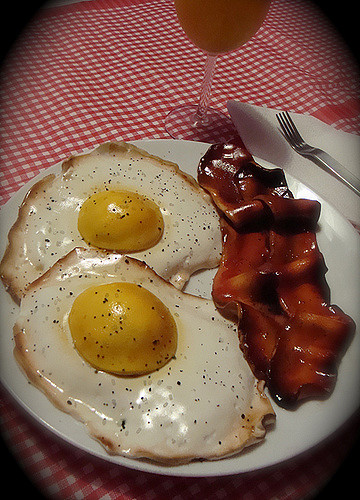slice of bread: (15, 263, 281, 458), (11, 156, 226, 294)
